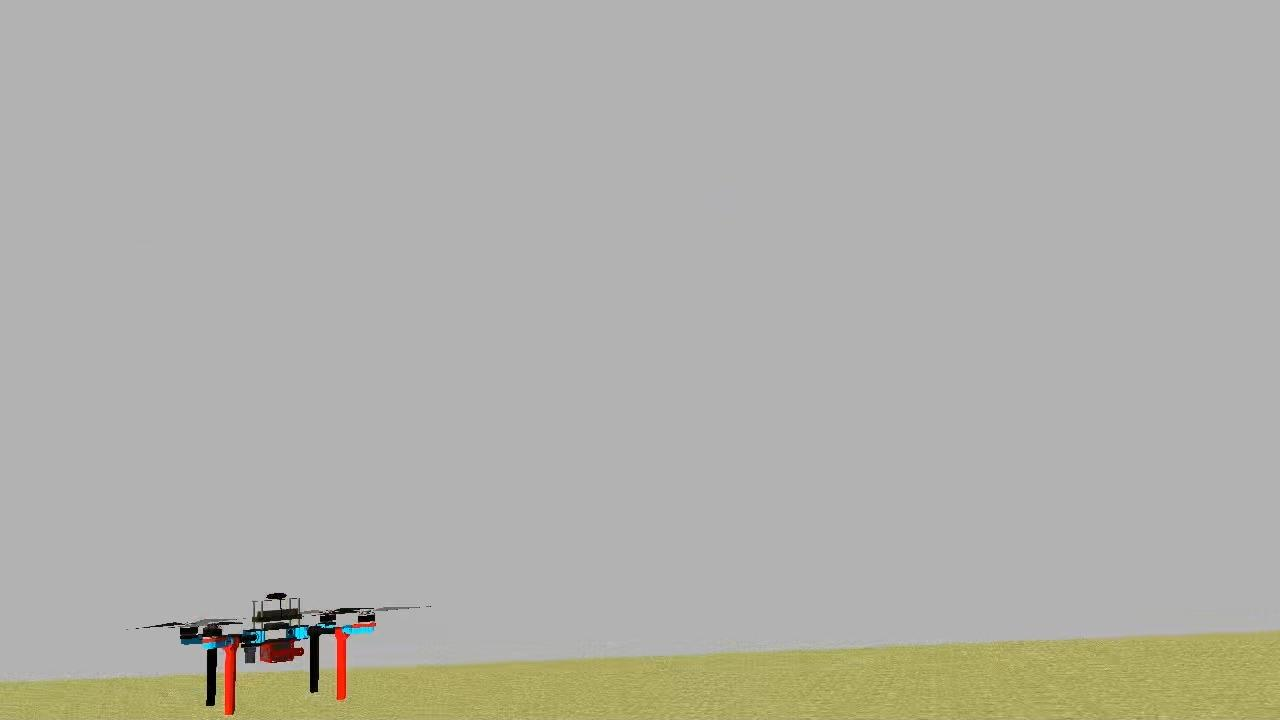UAV: (166, 587, 387, 720)
